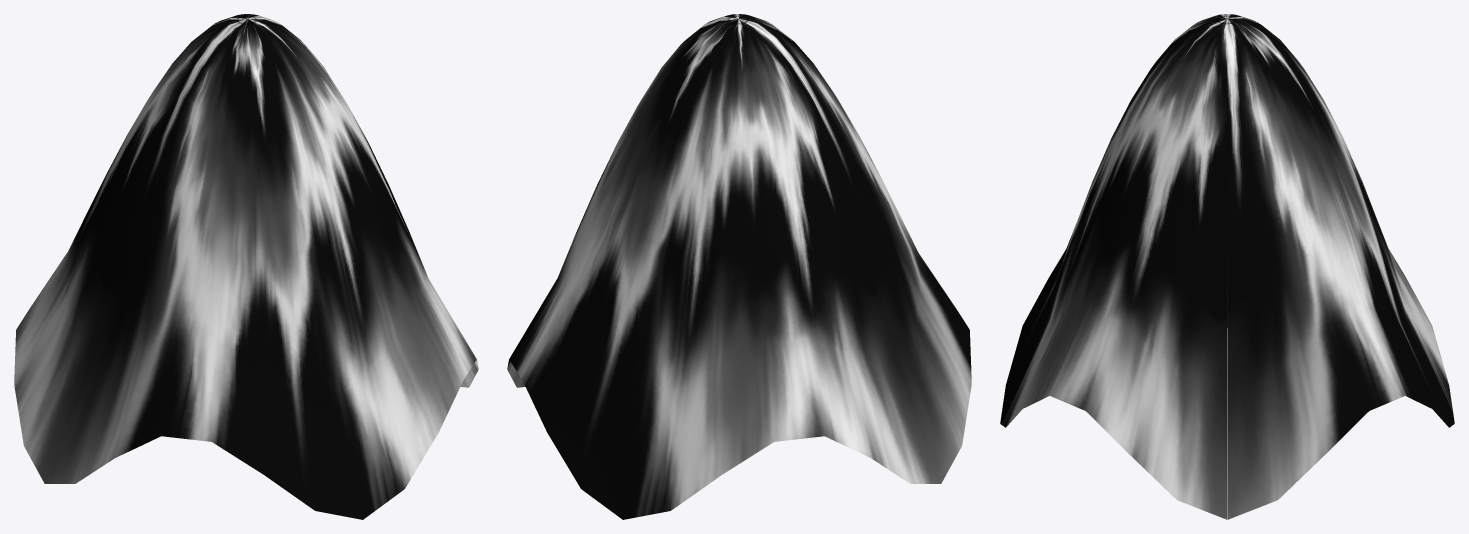
Rendered from Effects_fashe_01.FBX.
3 renders of one model, left to right at view 1: azimuth 30°, elevation 25°; view 2: azimuth 150°, elevation 25°; view 3: azimuth 270°, elevation 25°, orthographic. The views are drawn at different scales.
Parts seen in each view (by area): view 1: Effects_fashe_01; view 2: Effects_fashe_01; view 3: Effects_fashe_01.
Part boxes in pixels (left/top/right/bottom): Effects_fashe_01: left=14, top=14, right=478, bottom=519; Effects_fashe_01: left=507, top=14, right=971, bottom=519; Effects_fashe_01: left=1000, top=14, right=1454, bottom=519.
Bounding box in the file's own units: 300 × 296 × 300.
